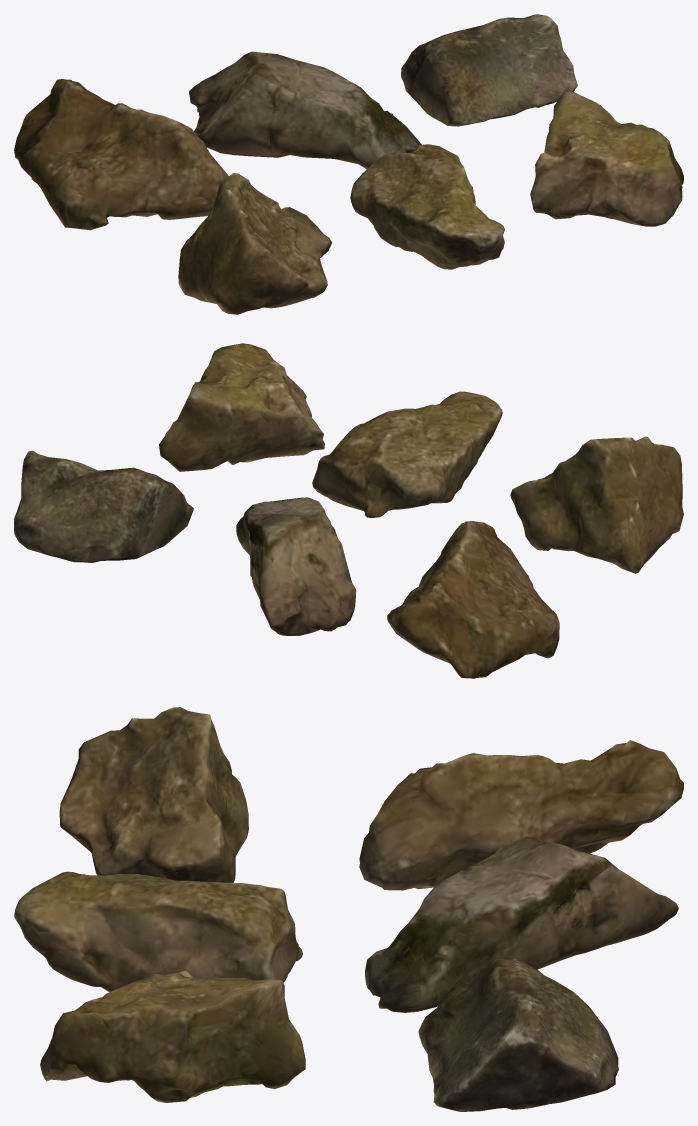
The model's file is rocks.glb.
The picture shows the model from 3 angles, top to bottom: view 1: azimuth 30°, elevation 25°; view 2: azimuth 150°, elevation 25°; view 3: azimuth 270°, elevation 25°; orthographic projection. The views are drawn at different scales.
Parts seen in each view (by area): view 1: rock_moss_set_01_rock01, rock_moss_set_01_rock02, rock_moss_set_01_rock06, rock_moss_set_01_rock04, rock_moss_set_01_rock03, rock_moss_set_01_rock05; view 2: rock_moss_set_01_rock04, rock_moss_set_01_rock01, rock_moss_set_01_rock05, rock_moss_set_01_rock03, rock_moss_set_01_rock06, rock_moss_set_01_rock02; view 3: rock_moss_set_01_rock01, rock_moss_set_01_rock02, rock_moss_set_01_rock05, rock_moss_set_01_rock04, rock_moss_set_01_rock06, rock_moss_set_01_rock03.
Boxes of the visible parts, bbox=[...] form: rock_moss_set_01_rock01: bbox=[14, 79, 228, 230]; rock_moss_set_01_rock02: bbox=[189, 51, 421, 169]; rock_moss_set_01_rock06: bbox=[530, 89, 683, 226]; rock_moss_set_01_rock04: bbox=[178, 173, 332, 314]; rock_moss_set_01_rock03: bbox=[401, 14, 577, 126]; rock_moss_set_01_rock05: bbox=[350, 144, 504, 269]; rock_moss_set_01_rock04: bbox=[510, 436, 683, 573]; rock_moss_set_01_rock01: bbox=[387, 521, 559, 678]; rock_moss_set_01_rock05: bbox=[312, 391, 502, 517]; rock_moss_set_01_rock03: bbox=[14, 450, 193, 562]; rock_moss_set_01_rock06: bbox=[159, 343, 324, 471]; rock_moss_set_01_rock02: bbox=[236, 497, 356, 635]; rock_moss_set_01_rock01: bbox=[359, 740, 683, 890]; rock_moss_set_01_rock02: bbox=[365, 836, 678, 1012]; rock_moss_set_01_rock05: bbox=[14, 871, 302, 991]; rock_moss_set_01_rock04: bbox=[59, 707, 248, 882]; rock_moss_set_01_rock06: bbox=[40, 970, 305, 1102]; rock_moss_set_01_rock03: bbox=[418, 956, 618, 1111].
Size of the model in its own units: 8 by 1.76 by 6.94.
Materials: 1 (1 with a texture image).
